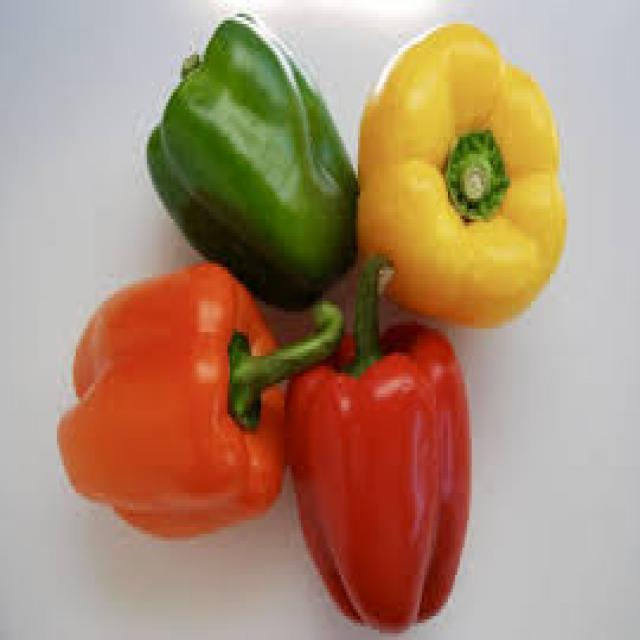organic waste: (55, 260, 342, 537), (282, 253, 469, 637), (353, 14, 564, 325), (142, 7, 356, 304)
